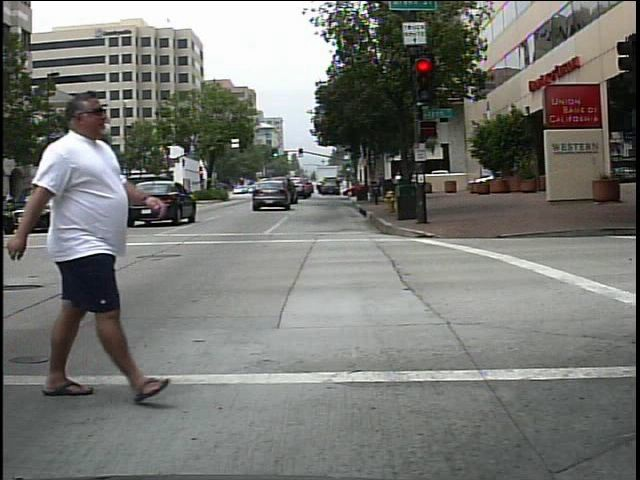person: (8, 88, 166, 405)
